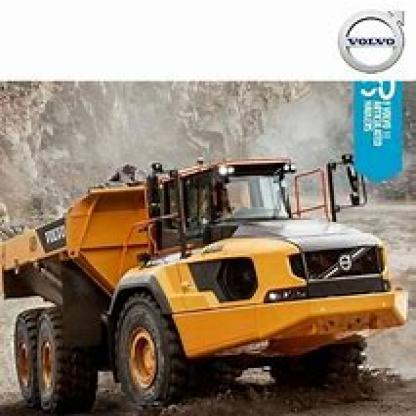dump_truck: (4, 144, 410, 401)
